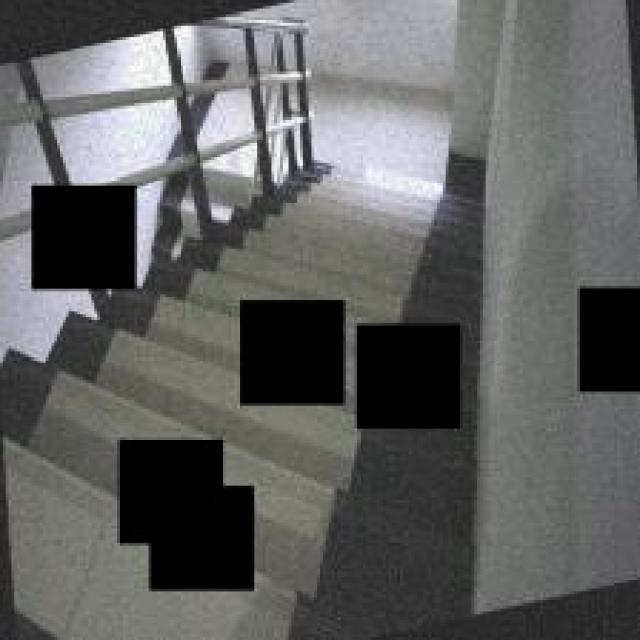downstair: (295, 152, 487, 301)
